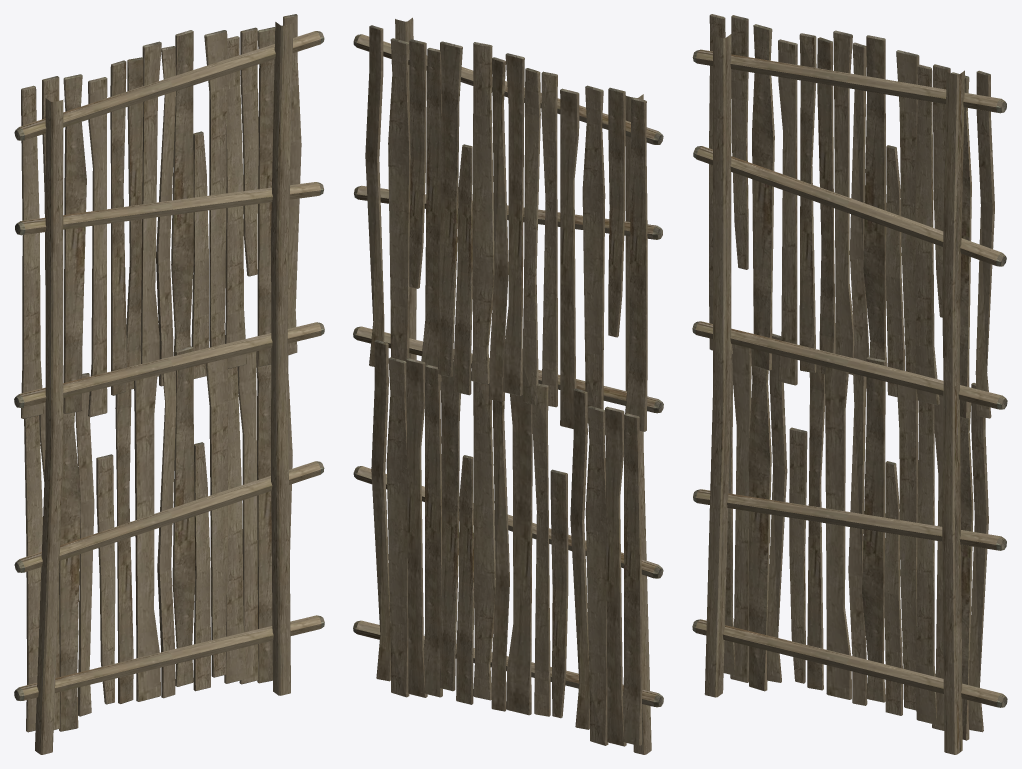
File: TW2_5_DOOR_03_02-transformed.glb
3 renders of one model, left to right at view 1: azimuth 30°, elevation 25°; view 2: azimuth 150°, elevation 25°; view 3: azimuth 330°, elevation 25°, orthographic.
Visible parts, largest first — view 1: default; view 2: default; view 3: default.
Boxes of the visible parts, x1,y1,x2,y2 form: default: (14,14,324,754); default: (353,17,663,754); default: (692,14,1007,754).
Size of the model in its own units: 6.16 by 13.04 by 0.6295.
1 material, 1 textured.
